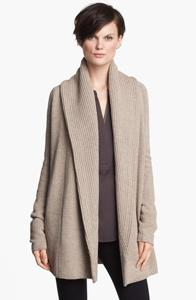S_cardigan sweater: (27, 61, 170, 284)
